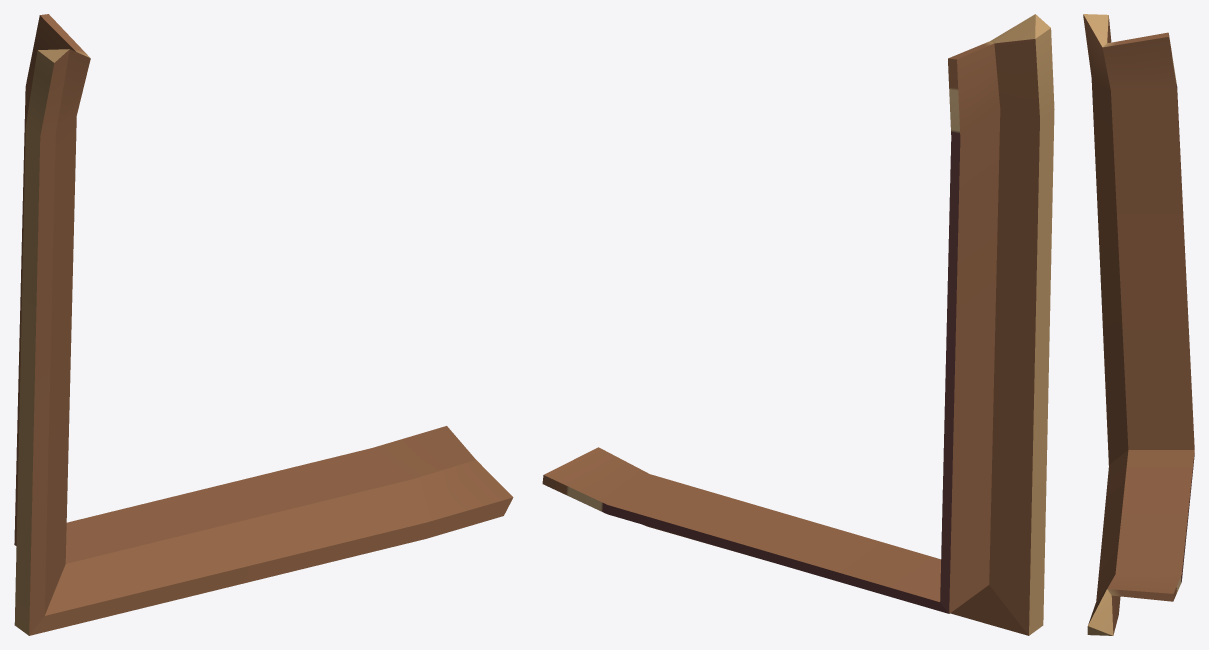
File: DBK_WinBig_Trim_C_End.fbx
The picture shows the model from 3 angles, left to right: view 1: azimuth 30°, elevation 25°; view 2: azimuth 150°, elevation 25°; view 3: azimuth 270°, elevation 25°; orthographic projection. The views are drawn at different scales.
Parts seen in each view (by area): view 1: DBK_WinBig_Trim_C_End; view 2: DBK_WinBig_Trim_C_End; view 3: DBK_WinBig_Trim_C_End.
Boxes of the visible parts, x1=… form: DBK_WinBig_Trim_C_End: x1=14, y1=14, x2=513, y2=635; DBK_WinBig_Trim_C_End: x1=542, y1=14, x2=1054, y2=635; DBK_WinBig_Trim_C_End: x1=1083, y1=14, x2=1194, y2=635.
Size of the model in its own units: 104 by 125 by 27.02.
